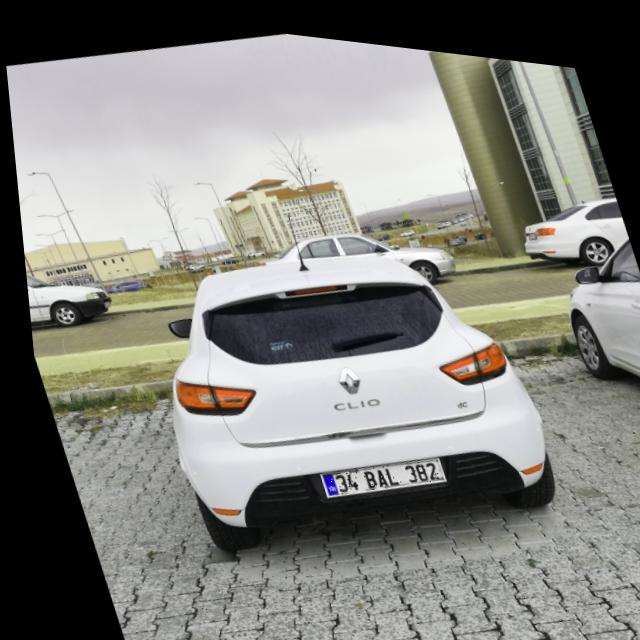license_plate: (307, 437, 439, 500)
